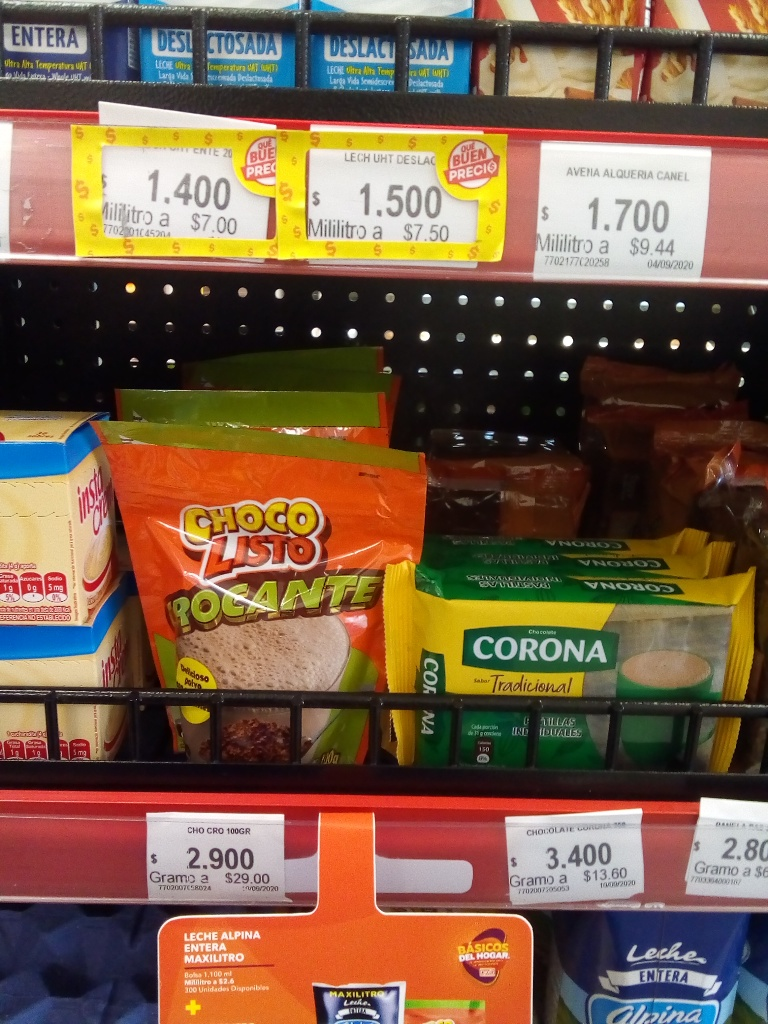COL0170102DYP10000: (115, 414, 426, 769)
